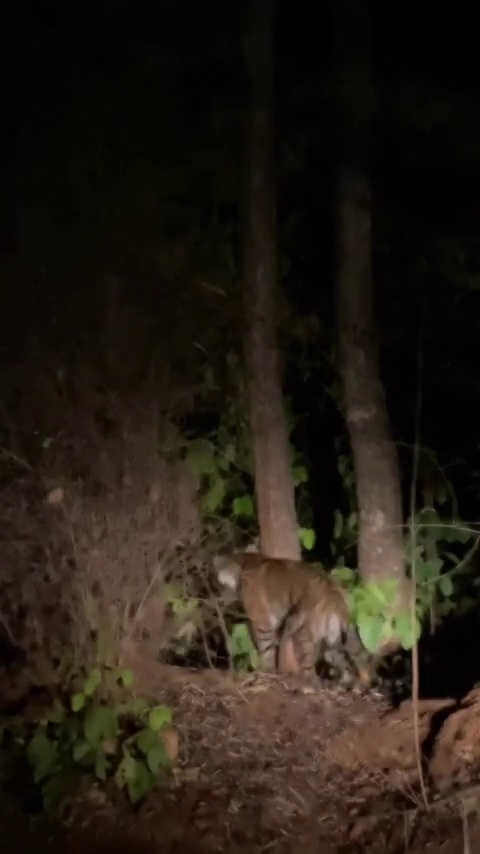Tiger: (210, 548, 413, 690)
